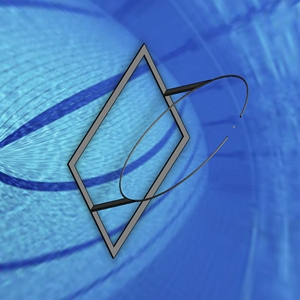circle: (66, 41, 250, 258)
